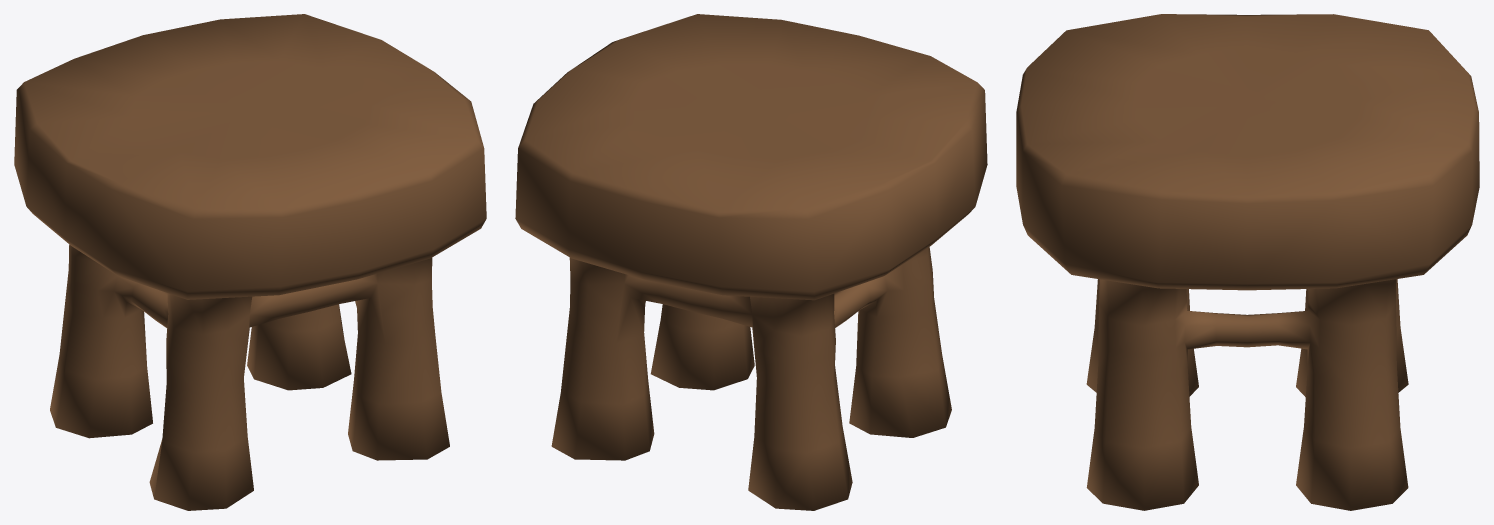
Rendered from Stool.fbx.
The picture shows the model from 3 angles, left to right: view 1: azimuth 30°, elevation 25°; view 2: azimuth 150°, elevation 25°; view 3: azimuth 270°, elevation 25°; orthographic projection. The views are drawn at different scales.
Visible parts, largest first — view 1: RetopoClassic; view 2: RetopoClassic; view 3: RetopoClassic.
Boxes of the visible parts, bbox=[...] form: RetopoClassic: bbox=[14, 14, 486, 510]; RetopoClassic: bbox=[515, 14, 987, 510]; RetopoClassic: bbox=[1016, 14, 1479, 510].
Bounding box in the file's own units: 299 × 248 × 307.
